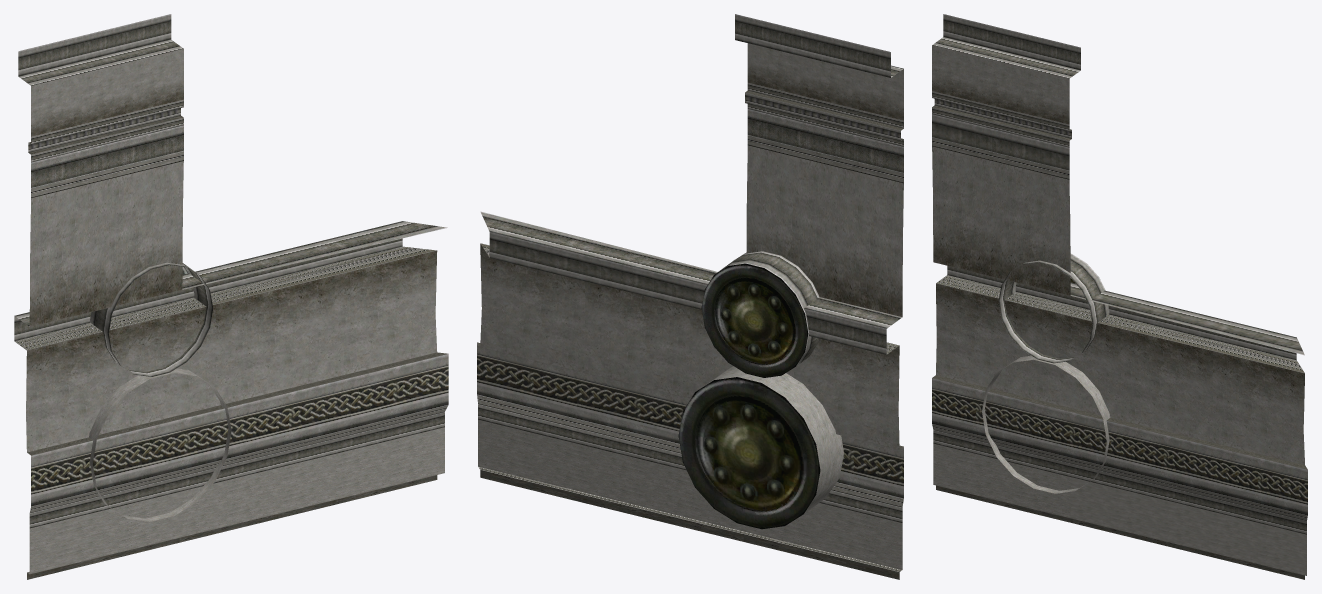
The model's file is DWARF_PALACE_GEAR_ROOM_WALL02A.fbx.
3 views of the same model, side by side, from view 1: azimuth 30°, elevation 25°; view 2: azimuth 150°, elevation 25°; view 3: azimuth 330°, elevation 25° (orthographic). The views are drawn at different scales.
Visible parts, largest first — view 1: DWARF_PALACE_GEAR_ROOM_WALL02A; view 2: DWARF_PALACE_GEAR_ROOM_WALL02A; view 3: DWARF_PALACE_GEAR_ROOM_WALL02A.
Boxes of the visible parts, left/top/right/bottom form: DWARF_PALACE_GEAR_ROOM_WALL02A: left=14, top=14, right=448, bottom=579; DWARF_PALACE_GEAR_ROOM_WALL02A: left=477, top=14, right=903, bottom=579; DWARF_PALACE_GEAR_ROOM_WALL02A: left=932, top=14, right=1307, bottom=579.
Bounding box in the file's own units: 171449 × 205000 × 18662.
Materials: 9 (9 with a texture image).
